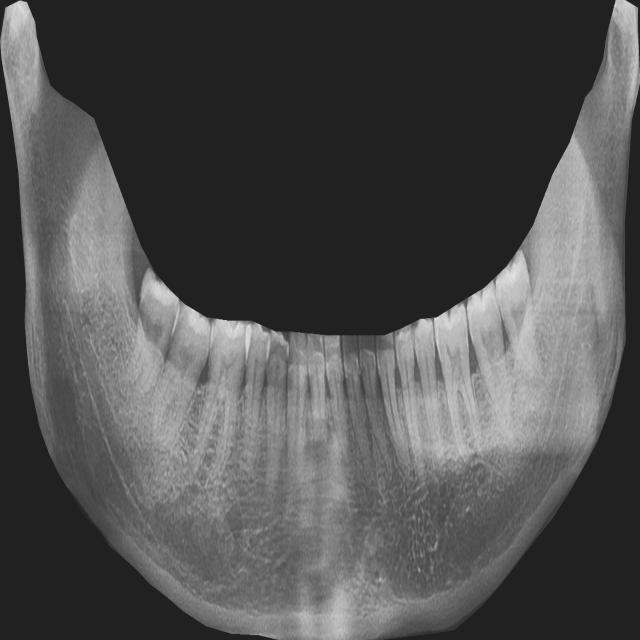mandibula: (0, 0, 640, 640)
